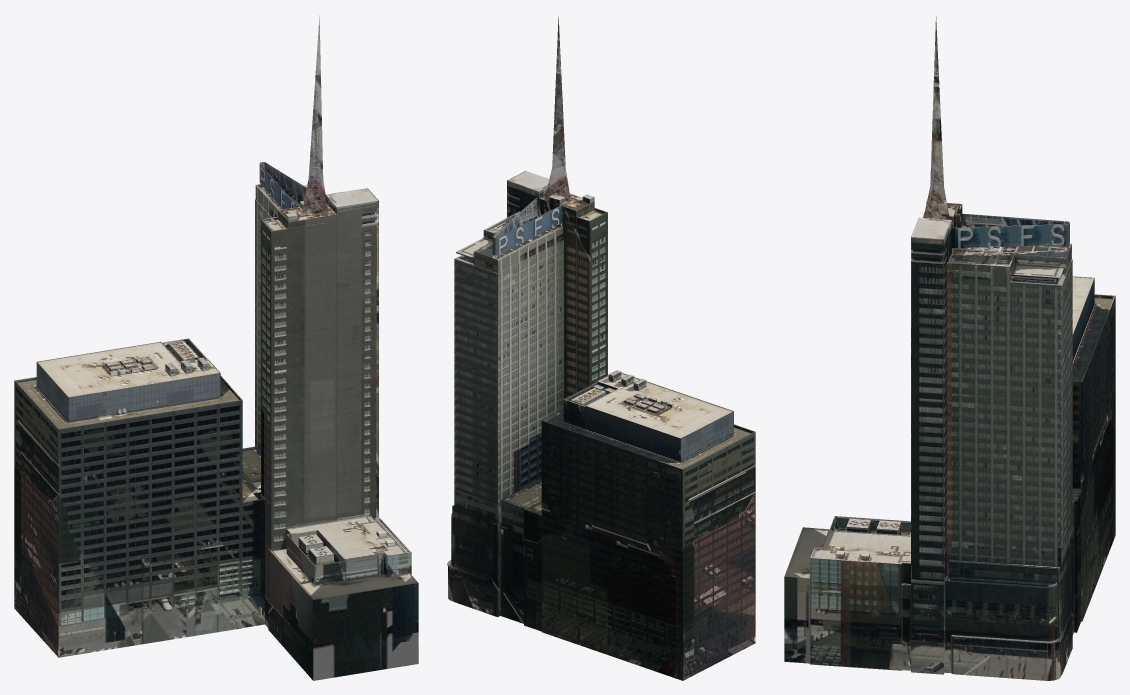
The model's file is tile1.glb.
3 views of the same model, side by side, from view 1: azimuth 30°, elevation 25°; view 2: azimuth 150°, elevation 25°; view 3: azimuth 270°, elevation 25° (orthographic). The views are drawn at different scales.
Bounding box in the file's own units: 123 × 235 × 111.
1 material, 1 textured.
